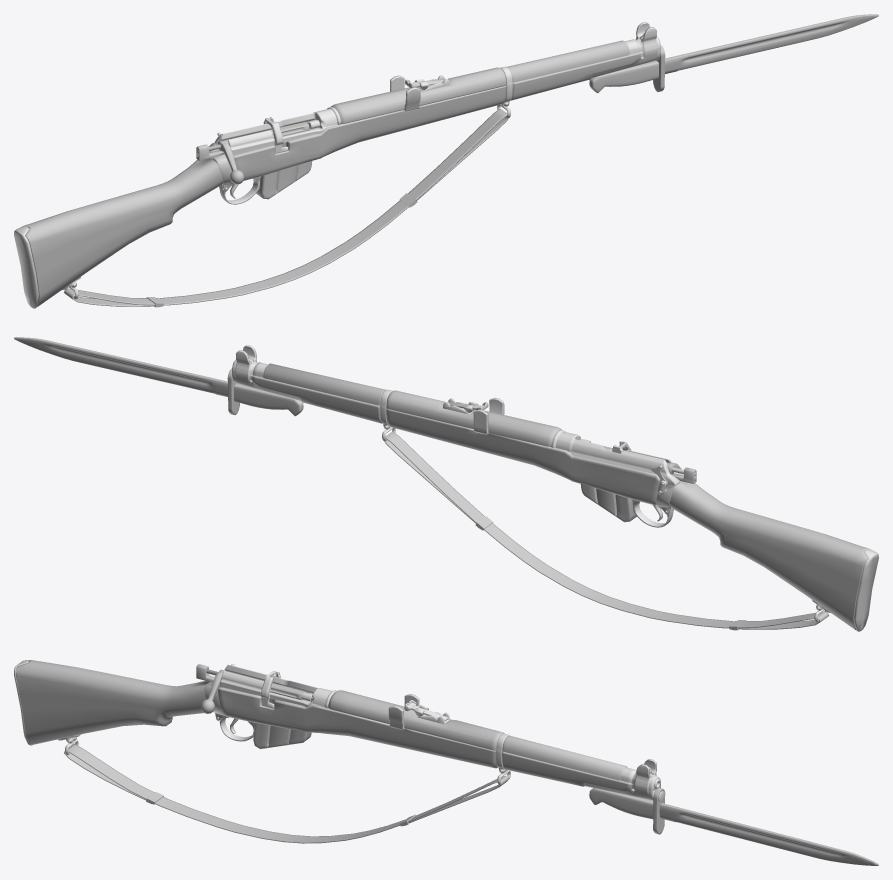
Rendered from Lee_Enfield_Rifle.fbx.
3 renders of one model, top to bottom at view 1: azimuth 30°, elevation 25°; view 2: azimuth 150°, elevation 25°; view 3: azimuth 330°, elevation 25°, orthographic.
Visible parts, largest first — view 1: Wood, Metal, Plane, Bayonet, Bolt, Magazine; view 2: Wood, Metal, Plane, Bayonet, Magazine; view 3: Wood, Metal, Bayonet, Plane, Bolt, Magazine.
Boxes of the visible parts, x1,y1,x2,y2 form: Wood: (16,40,640,306); Metal: (14,22,660,308); Plane: (64,108,508,307); Bayonet: (589,14,878,93); Bolt: (196,121,309,184); Magazine: (256,161,312,199); Wood: (252,363,876,629); Metal: (232,345,878,631); Plane: (384,431,828,630); Bayonet: (14,337,303,416); Magazine: (580,484,636,522); Wood: (16,660,630,791); Metal: (14,660,664,802); Bayonet: (589,787,878,865); Plane: (64,744,509,843); Bolt: (196,664,306,713); Magazine: (253,723,311,749).
Size of the model in its own units: 406 by 76.57 by 22.45.
